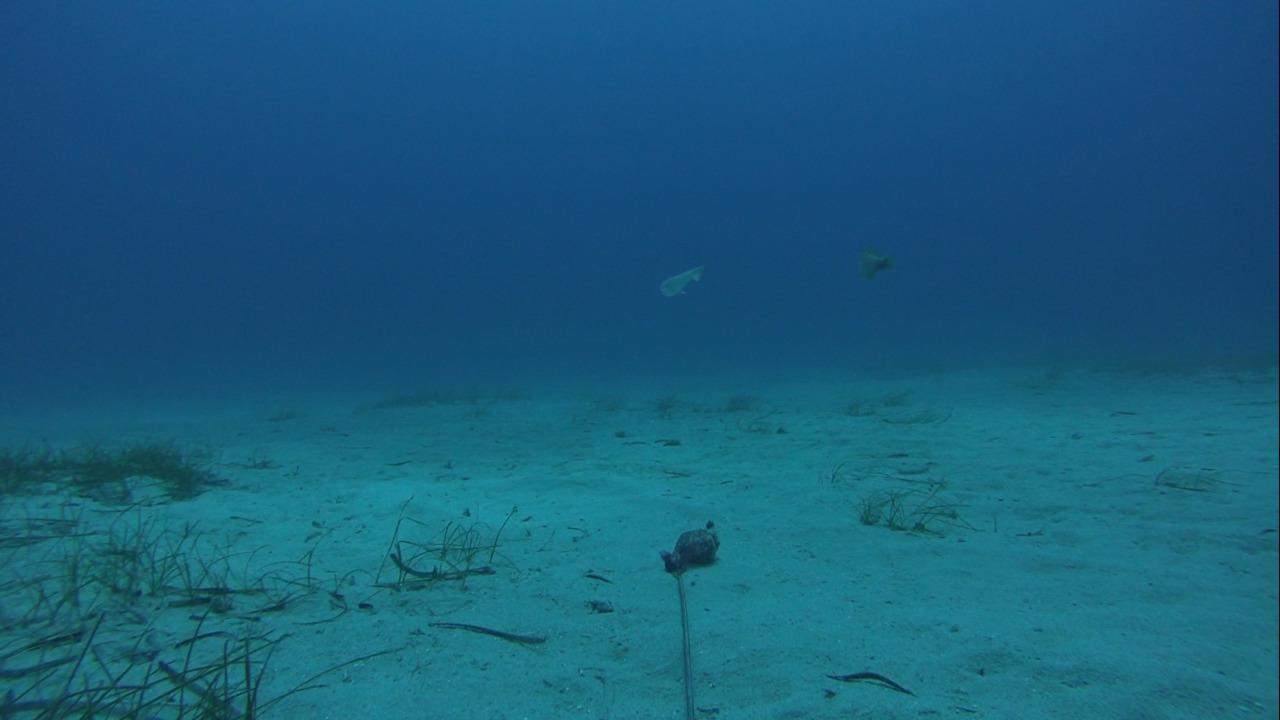raor: (655, 260, 711, 305)
